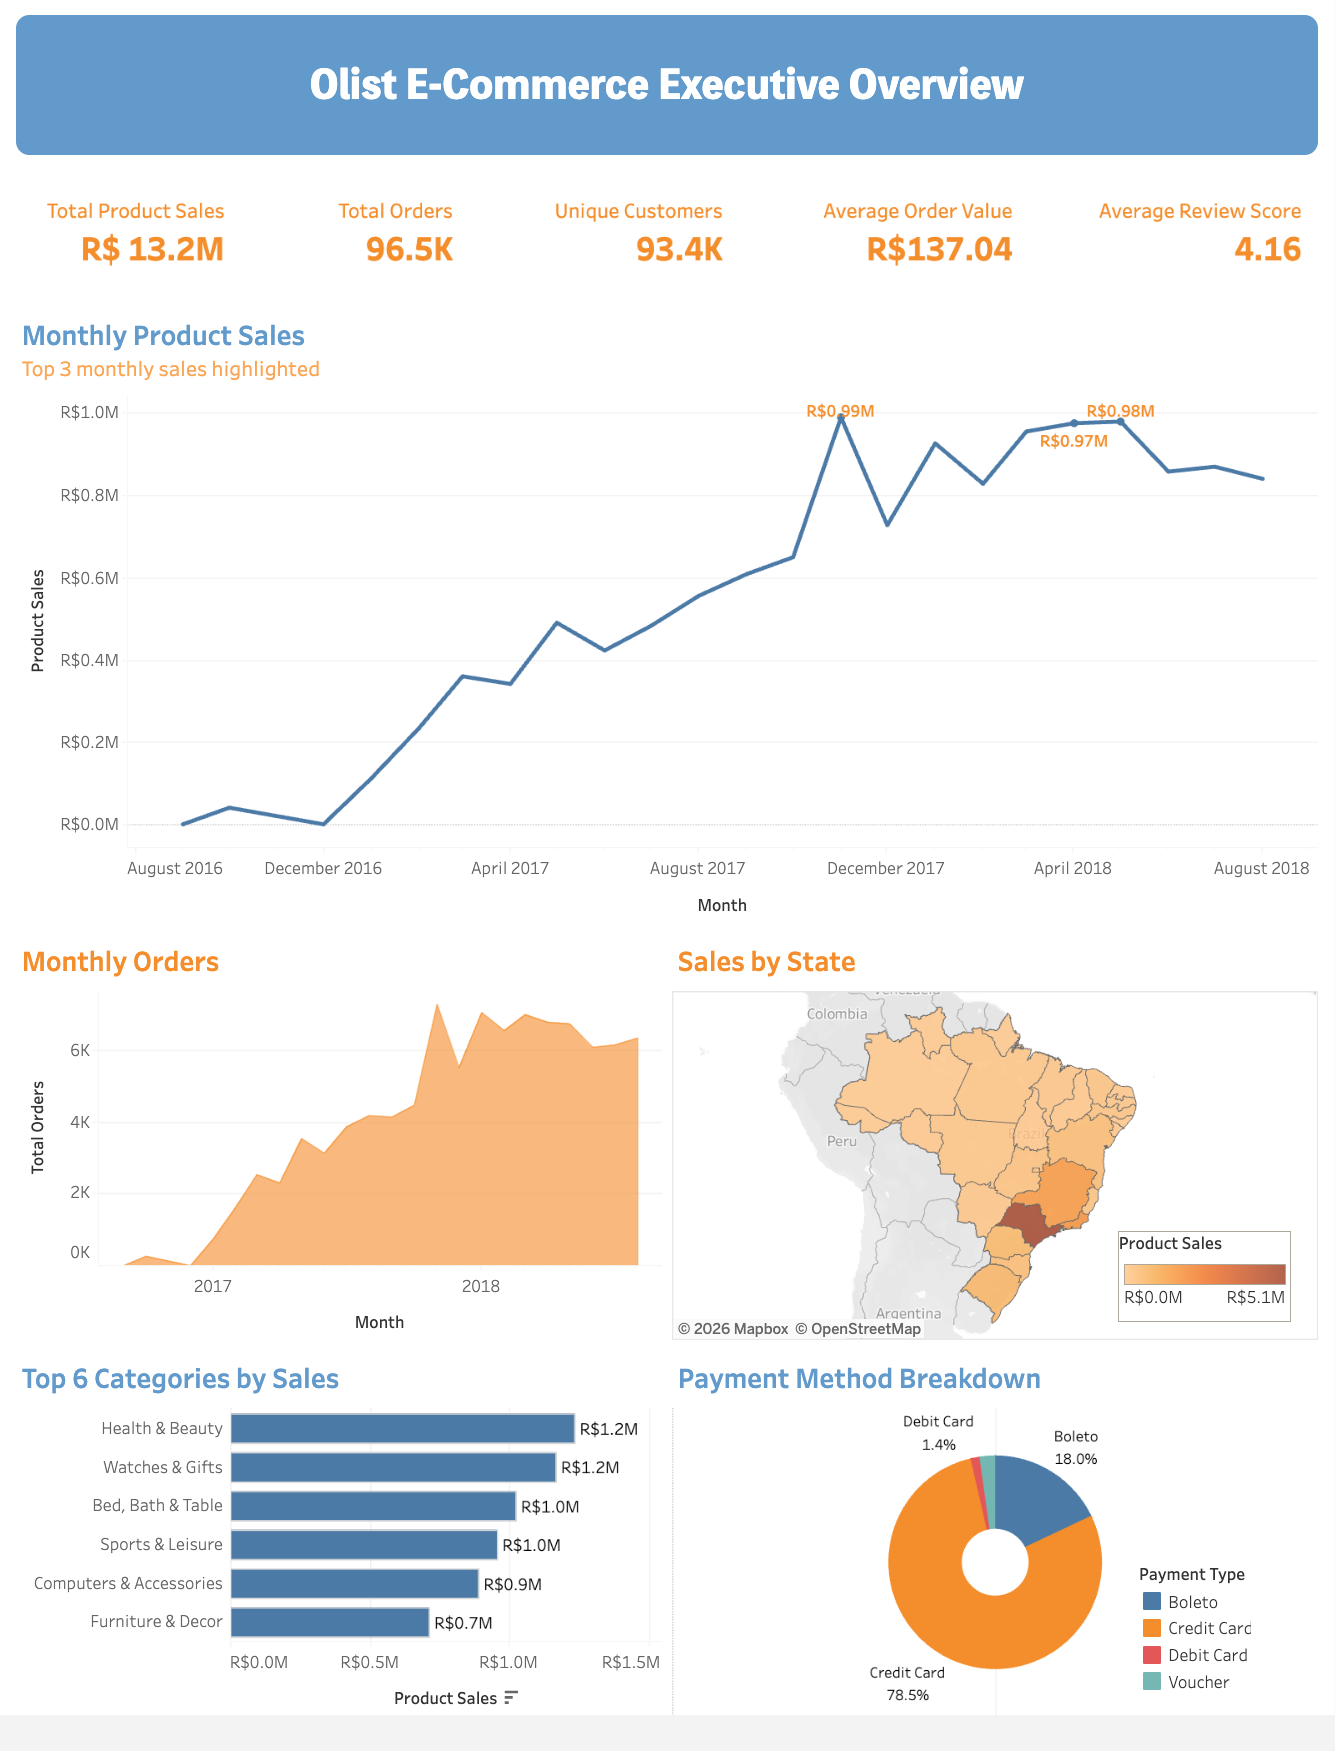

Layout of this report page (visuals, bound fields, positions):
{"tool":"tableau","page":{"name":"Dashboard 1","canvas":[1000,1300],"ordinal":0},"visuals":[{"type":"text","box":[8,8,984,113]},{"type":"worksheet","title":"KPI - Product Sales","mark":"Automatic","box":[8,121,197,107]},{"type":"worksheet","title":"KPI - Orders","mark":"Automatic","box":[205,121,197,107]},{"type":"worksheet","title":"KPI - Customers","mark":"Automatic","box":[402,121,197,107]},{"type":"worksheet","title":"KPI - AOV","mark":"Automatic","box":[599,121,197,107]},{"type":"worksheet","title":"KPI - Review Score","mark":"Automatic","box":[796,121,196,107]},{"type":"worksheet","title":"Monthly Product Sales","mark":"Line","rows":["product_sales"],"cols":["Calculation_2684431299960832"],"box":[8,228,984,469]},{"type":"worksheet","title":"Monthly Orders","mark":"Area","rows":["total_orders"],"cols":["Calculation_2684431299960832"],"box":[8,697,492,313]},{"type":"worksheet","title":"Sales by State Map","mark":"Multipolygon","box":[500,697,492,313]},{"type":"legend","title":"Sales by State Map","param":"[federated.077gi2x0msq4dy1bxgpnj1kc1646].[sum:product_sales:qk]","box":[838,924,130,68]},{"type":"worksheet","title":"Top Categories by Sales","mark":"Automatic","rows":["category"],"cols":["product_sales"],"box":[8,1010,492,282]},{"type":"worksheet","title":"Payment Method Donut","mark":"Pie","cols":["Calculation_3549060000849920","Calculation_3549060000849920"],"box":[500,1010,492,282]},{"type":"legend","title":"Payment Method Donut","param":"[federated.1fkuq4f15tm5kv19olhc31lkjrrl].[none:payment_type:nk]","box":[854,1173,108,98]}]}

Visuals, with their boxes in screenshot pixels (x1, y1, x2, y2), scaled from the page's 1000x1300 canvas onto the 1335x1751 screenshot:
text: l=11, t=11, r=1324, b=163
"KPI - Product Sales" worksheet: l=11, t=163, r=274, b=307
"KPI - Orders" worksheet: l=274, t=163, r=537, b=307
"KPI - Customers" worksheet: l=537, t=163, r=800, b=307
"KPI - AOV" worksheet: l=800, t=163, r=1063, b=307
"KPI - Review Score" worksheet: l=1063, t=163, r=1324, b=307
"Monthly Product Sales" worksheet (Line marks): l=11, t=307, r=1324, b=939
"Monthly Orders" worksheet (Area marks): l=11, t=939, r=668, b=1360
"Sales by State Map" worksheet (Multipolygon marks): l=668, t=939, r=1324, b=1360
"Sales by State Map" legend: l=1119, t=1245, r=1292, b=1336
"Top Categories by Sales" worksheet: l=11, t=1360, r=668, b=1740
"Payment Method Donut" worksheet (Pie marks): l=668, t=1360, r=1324, b=1740
"Payment Method Donut" legend: l=1140, t=1580, r=1284, b=1712
